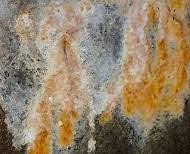Corrosion: (96, 1, 190, 131), (25, 1, 96, 154), (143, 94, 190, 154), (90, 103, 142, 154), (1, 104, 28, 154)
